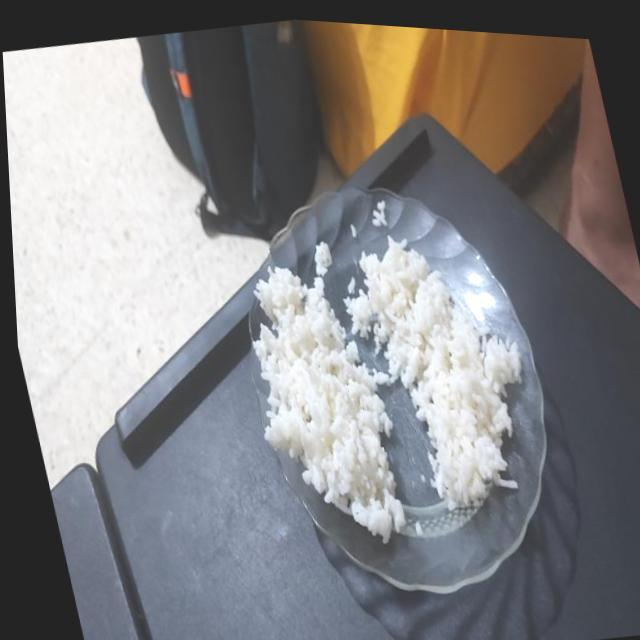nasi_putih: (344, 235, 521, 510), (254, 266, 406, 542)
